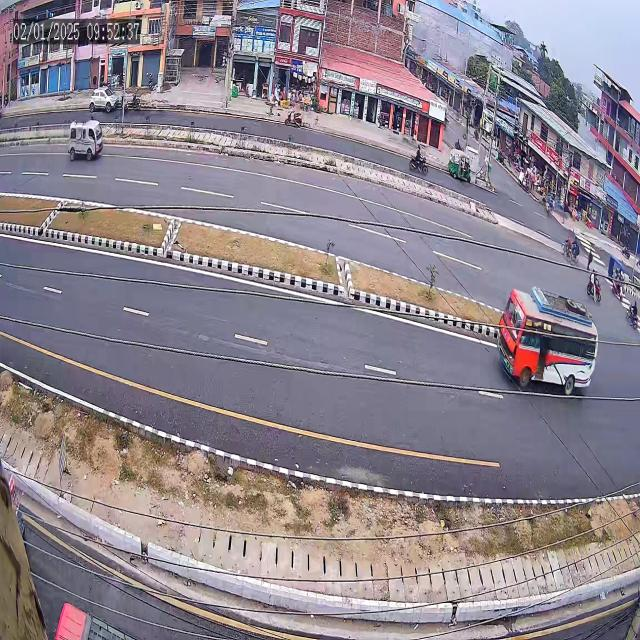auto: (443, 132, 475, 190)
bus: (479, 268, 603, 403)
car: (85, 84, 127, 118)
motorcycle: (403, 132, 432, 187), (282, 104, 312, 141), (584, 265, 608, 310), (621, 288, 640, 338)
van: (59, 109, 110, 192)
